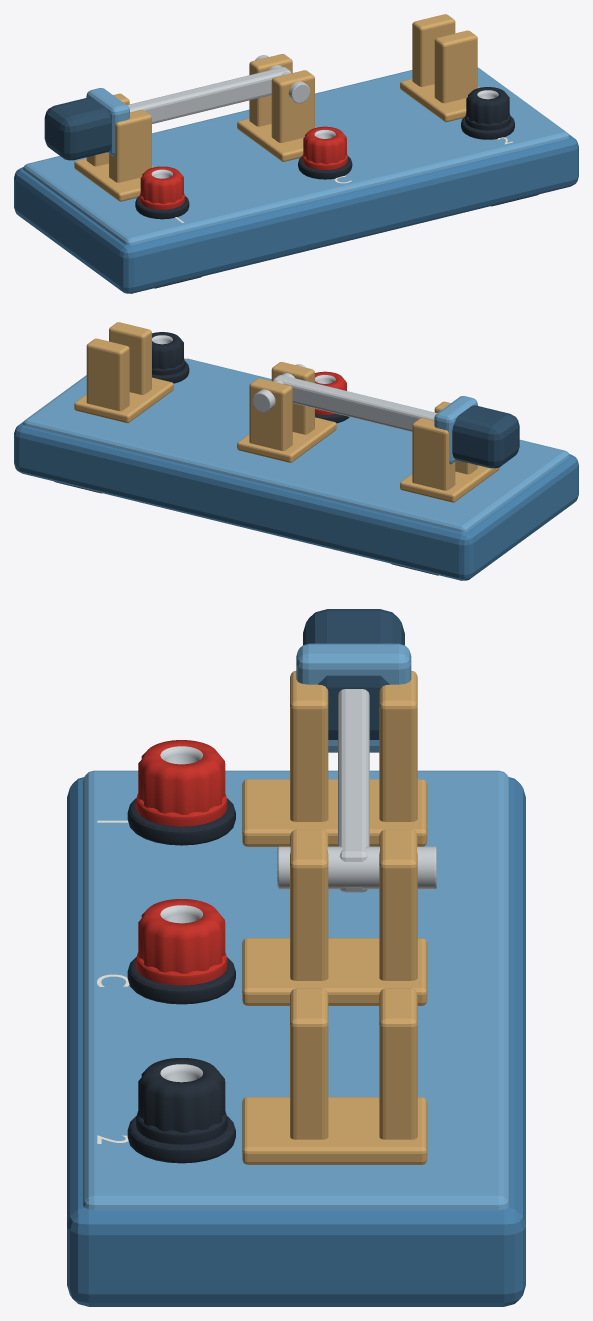
File: switch-spdt.glb
3 renders of one model, top to bottom at view 1: azimuth 30°, elevation 25°; view 2: azimuth 150°, elevation 25°; view 3: azimuth 270°, elevation 25°, orthographic. The views are drawn at different scales.
Visible parts, largest first — view 1: Upper switch shoulder, Molded three-contact switch base, Blue insulating handle, Selector knife blade, Exposed contact forks.004, Exposed contact forks.002, Exposed contact forks, Exposed contact forks.005, n binding socket, p binding socket, b binding socket, Terminal bus plate.002 (+8 smaller); view 2: Upper switch shoulder, Molded three-contact switch base, Blue insulating handle, Selector knife blade, Exposed contact forks.005, Exposed contact forks.001, Exposed contact forks.003, Exposed contact forks.004, Terminal bus plate.002, Terminal bus plate.001, Terminal bus plate, Exposed contact forks.002 (+5 smaller); view 3: Upper switch shoulder, Molded three-contact switch base, Terminal bus plate.002, Terminal bus plate.001, Terminal bus plate, Exposed contact forks.005, Exposed contact forks.004, Exposed contact forks.002, Exposed contact forks.003, b binding socket, n binding socket, p binding socket (+12 smaller).
Part boxes in pixels (box(x1,y1,x2,y2)): Upper switch shoulder: box(23, 67, 569, 245); Molded three-contact switch base: box(14, 134, 578, 293); Blue insulating handle: box(44, 97, 111, 160); Selector knife blade: box(127, 67, 291, 123); Exposed contact forks.004: box(434, 30, 477, 103); Exposed contact forks.002: box(271, 70, 314, 142); Exposed contact forks: box(109, 110, 151, 182); Exposed contact forks.005: box(412, 14, 455, 86); n binding socket: box(140, 166, 183, 203); p binding socket: box(303, 126, 346, 164); b binding socket: box(466, 87, 509, 124); Terminal bus plate.002: box(400, 79, 479, 122); Upper switch shoulder: box(23, 358, 569, 532); Molded three-contact switch base: box(14, 421, 578, 580); Blue insulating handle: box(452, 405, 519, 468); Selector knife blade: box(273, 375, 437, 431); Exposed contact forks.005: box(86, 338, 129, 411); Exposed contact forks.001: box(412, 418, 455, 490); Exposed contact forks.003: box(249, 378, 292, 450); Exposed contact forks.004: box(109, 322, 151, 394); Terminal bus plate.002: box(74, 377, 173, 423); Terminal bus plate.001: box(237, 417, 336, 462); Terminal bus plate: box(400, 465, 499, 502); Exposed contact forks.002: box(271, 362, 314, 434); Upper switch shoulder: box(83, 770, 509, 1210); Molded three-contact switch base: box(67, 777, 525, 1306); Terminal bus plate.002: box(242, 1097, 427, 1164); Terminal bus plate.001: box(242, 938, 427, 1005); Terminal bus plate: box(242, 779, 427, 846); Exposed contact forks.005: box(379, 988, 417, 1139); Exposed contact forks.004: box(290, 988, 328, 1139); Exposed contact forks.002: box(290, 829, 328, 980); Exposed contact forks.003: box(379, 829, 417, 980); b binding socket: box(138, 1058, 225, 1132); n binding socket: box(138, 740, 225, 814); p binding socket: box(138, 899, 225, 973).
Size of the model in its own units: 0.166 by 0.0485 by 0.072.
